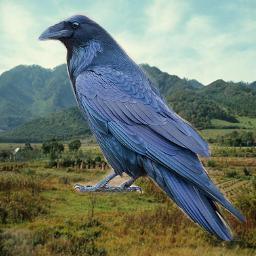Crow: (35, 12, 247, 241)
